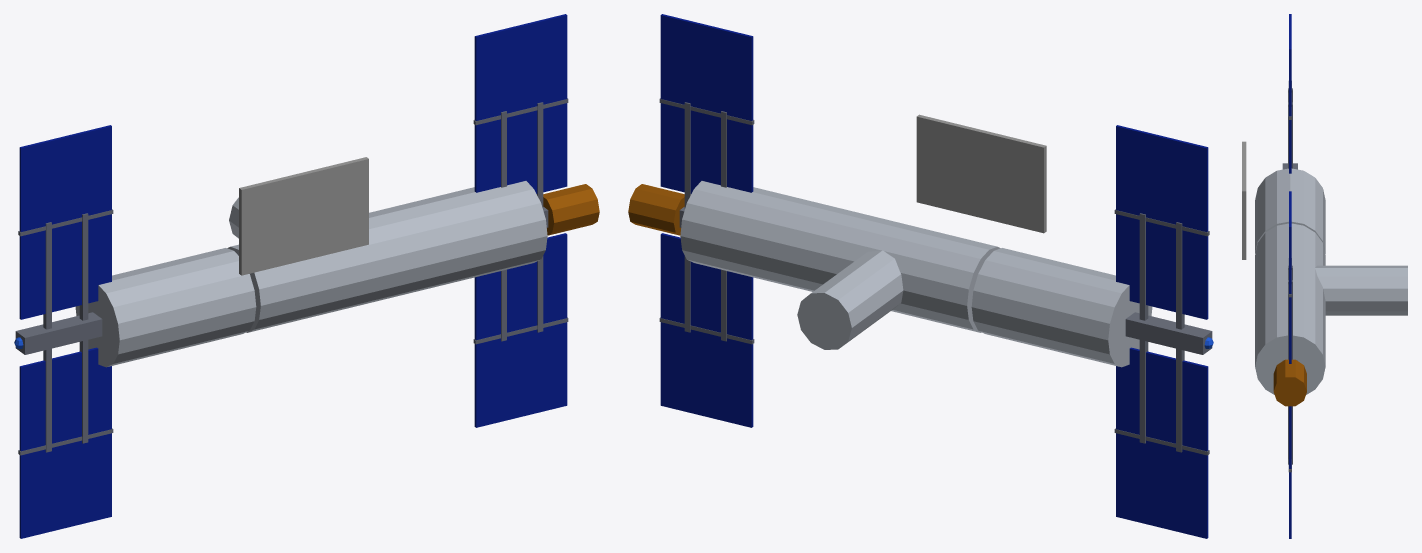
Rendered from station.glb.
3 views of the same model, side by side, from view 1: azimuth 30°, elevation 25°; view 2: azimuth 150°, elevation 25°; view 3: azimuth 270°, elevation 25° (orthographic). The views are drawn at different scales.
Visible parts, largest first — view 1: station; view 2: station; view 3: station.
Boxes of the visible parts, x1=… form: station: x1=14, y1=14, x2=599, y2=538; station: x1=628, y1=14, x2=1213, y2=538; station: x1=1242, y1=14, x2=1407, y2=538.
Bounding box in the file's own units: 1.71 × 1.11 × 0.535.
